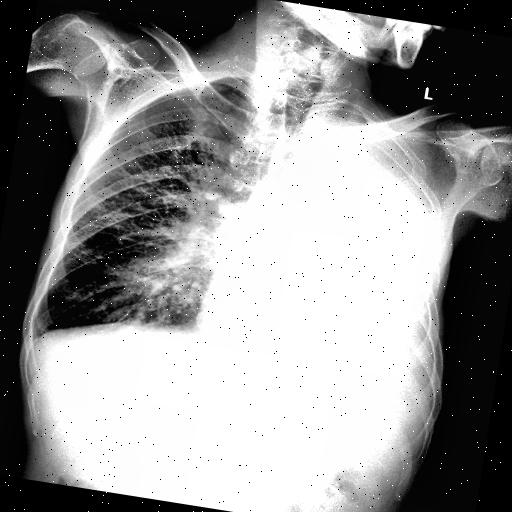1- Atelectasis: (271, 104, 467, 380)
10- Pleural effusion: (250, 98, 466, 384), (260, 100, 464, 382), (271, 104, 467, 380), (18, 326, 46, 350)
11- Pleural thickening: (18, 326, 46, 350)
6- Infiltration: (103, 230, 219, 336), (110, 238, 214, 326)
7- Lung Opacity: (130, 250, 212, 308)
9- Other lesion: (271, 104, 467, 380), (130, 250, 212, 308)
